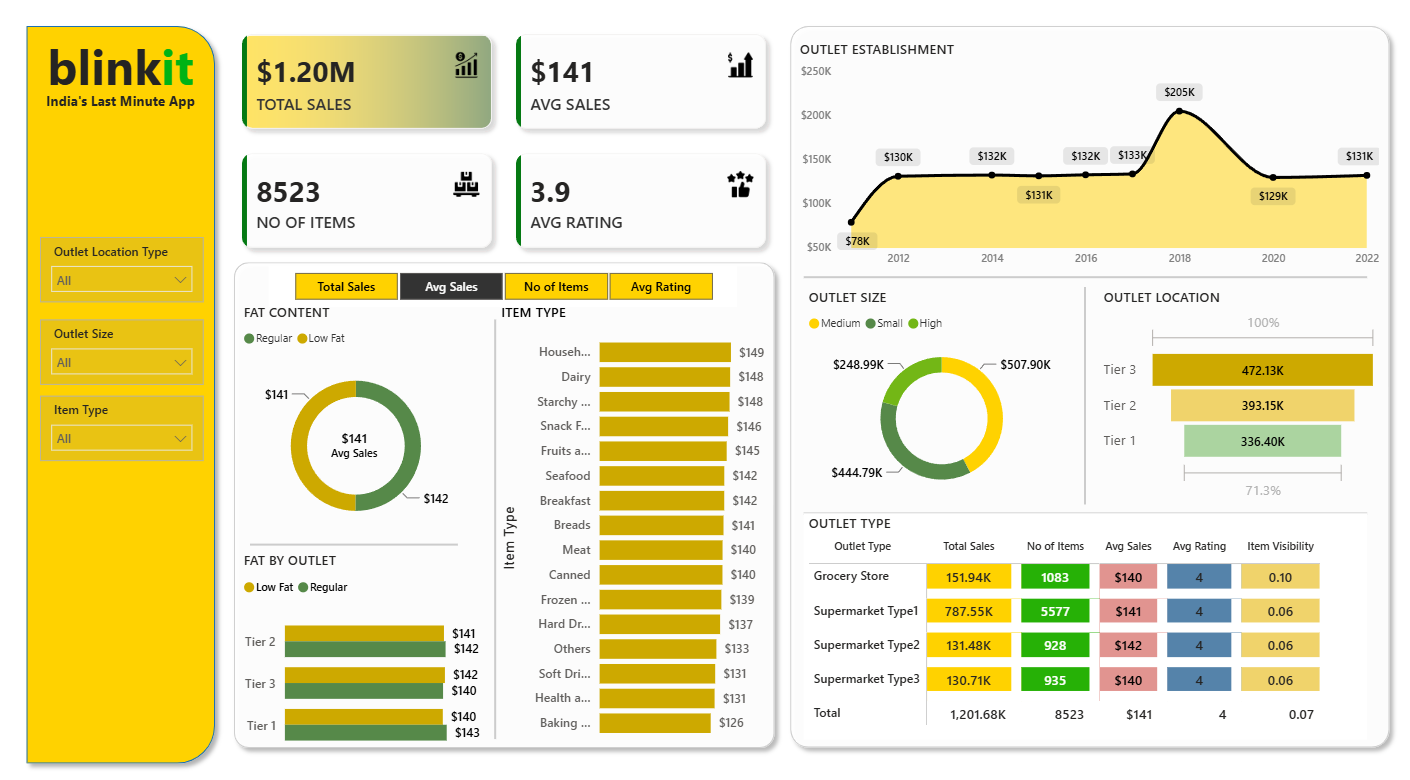

The page's visual inventory and layout, read from the dashboard file:
{"tool":"powerbi","page":{"name":"Page 1","canvas":[1400,800],"ordinal":0},"visuals":[{"type":"shape","box":[17.5,25,205,750],"z":0},{"type":"textbox","box":[32.5,36.2,175,73.8],"z":1000},{"type":"textbox","box":[32.5,93.8,175,35],"z":2000},{"type":"cardVisual","fields":{"Data":["BlinkIT Grocery Data.Total Sales","BlinkIT Grocery Data.Avg Sales","BlinkIT Grocery Data.No of Items","BlinkIT Grocery Data.Avg Rating"]},"box":[222.8,25.3,554.4,246.8],"z":3000},{"type":"shape","box":[222.8,259.5,554.4,500],"z":4000},{"type":"donutChart","title":"FAT CONTENT","fields":{"Y":["BlinkIT Grocery Data.Avg Sales"],"Category":["BlinkIT Grocery Data.Item Fat Content"]},"box":[236.7,307.6,232.9,240.5],"z":5000},{"type":"slicer","fields":{"Values":["Matrics.Matrics"]},"box":[267.1,272.2,464.6,40.5],"z":6000},{"type":"cardVisual","fields":{"Data":["BlinkIT Grocery Data.Avg Sales"]},"box":[293.7,415.2,115.2,67.1],"z":7000},{"type":"clusteredBarChart","title":"FAT BY OUTLET","fields":{"Y":["BlinkIT Grocery Data.Avg Sales"],"Category":["BlinkIT Grocery Data.Outlet Location Type"],"Series":["BlinkIT Grocery Data.Item Fat Content"]},"box":[236.7,554.4,245.6,211.4],"z":8000},{"type":"shape","box":[248.1,541.8,206.3,12.7],"z":9000},{"type":"shape","box":[388.6,325.3,206.3,416.5],"z":10000},{"type":"barChart","title":"ITEM TYPE","fields":{"Y":["BlinkIT Grocery Data.Avg Sales"],"Category":["BlinkIT Grocery Data.Item Type"]},"box":[492.4,307.6,272.2,443],"z":11000},{"type":"shape","box":[775.9,25.3,612.7,734.2],"z":12000},{"type":"lineChart","title":"OUTLET ESTABLISHMENT","fields":{"Y":["BlinkIT Grocery Data.Total Sales"],"Category":["BlinkIT Grocery Data.Outlet Establishment Year"]},"box":[788.6,46.8,584.8,234.2],"z":13000},{"type":"shape","box":[797.5,274.7,559.5,17.7],"z":14000},{"type":"donutChart","title":"OUTLET SIZE","fields":{"Y":["BlinkIT Grocery Data.Total Sales"],"Category":["BlinkIT Grocery Data.Outlet Size"]},"box":[797.8,292.8,274.2,215.9],"z":15000},{"type":"shape","box":[974,292.8,206,215.9],"z":16000},{"type":"funnel","title":"OUTLET LOCATION","fields":{"Y":["Sum(BlinkIT Grocery Data.Sales)"],"Category":["BlinkIT Grocery Data.Outlet Location Type"]},"box":[1091.1,292.4,282.3,217.7],"z":17000},{"type":"shape","box":[797.5,508.9,559.5,17.7],"z":18000},{"type":"pivotTable","title":"OUTLET TYPE","fields":{"Rows":["BlinkIT Grocery Data.Outlet Type"],"Values":["Sum(BlinkIT Grocery Data.Sales)","BlinkIT Grocery Data.No of Items","BlinkIT Grocery Data.Avg Sales","BlinkIT Grocery Data.Avg Rating","Avg(BlinkIT Grocery Data.Item Visibility)"]},"box":[797.8,517.4,559.6,224.6],"z":19000},{"type":"slicer","fields":{"Values":["BlinkIT Grocery Data.Outlet Location Type"]},"box":[39.2,243,162,64.6],"z":20000},{"type":"slicer","fields":{"Values":["BlinkIT Grocery Data.Outlet Size"]},"box":[39.2,325.3,162,64.6],"z":21000},{"type":"slicer","fields":{"Values":["BlinkIT Grocery Data.Item Type"]},"box":[39.2,401.3,162,64.6],"z":22000}]}

Visuals, with their boxes on the page's 1400x800 design canvas (x1, y1, x2, y2). These are canvas units, not pixel positions in the 1410x780 screenshot, which may show the page scaled, cropped or inside an application window:
shape: (18,25,222,775)
textbox: (32,36,208,110)
textbox: (32,94,208,129)
cardVisual - BlinkIT Grocery Data.Total Sales x BlinkIT Grocery Data.Avg Sales: (223,25,777,272)
shape: (223,260,777,760)
"FAT CONTENT" donutChart: (237,308,470,548)
slicer - Matrics.Matrics: (267,272,732,313)
cardVisual - BlinkIT Grocery Data.Avg Sales: (294,415,409,482)
"FAT BY OUTLET" clusteredBarChart: (237,554,482,766)
shape: (248,542,454,554)
shape: (389,325,595,742)
"ITEM TYPE" barChart: (492,308,765,751)
shape: (776,25,1389,760)
"OUTLET ESTABLISHMENT" lineChart: (789,47,1373,281)
shape: (798,275,1357,292)
"OUTLET SIZE" donutChart: (798,293,1072,509)
shape: (974,293,1180,509)
"OUTLET LOCATION" funnel: (1091,292,1373,510)
shape: (798,509,1357,527)
"OUTLET TYPE" pivotTable: (798,517,1357,742)
slicer - BlinkIT Grocery Data.Outlet Location Type: (39,243,201,308)
slicer - BlinkIT Grocery Data.Outlet Size: (39,325,201,390)
slicer - BlinkIT Grocery Data.Item Type: (39,401,201,466)
